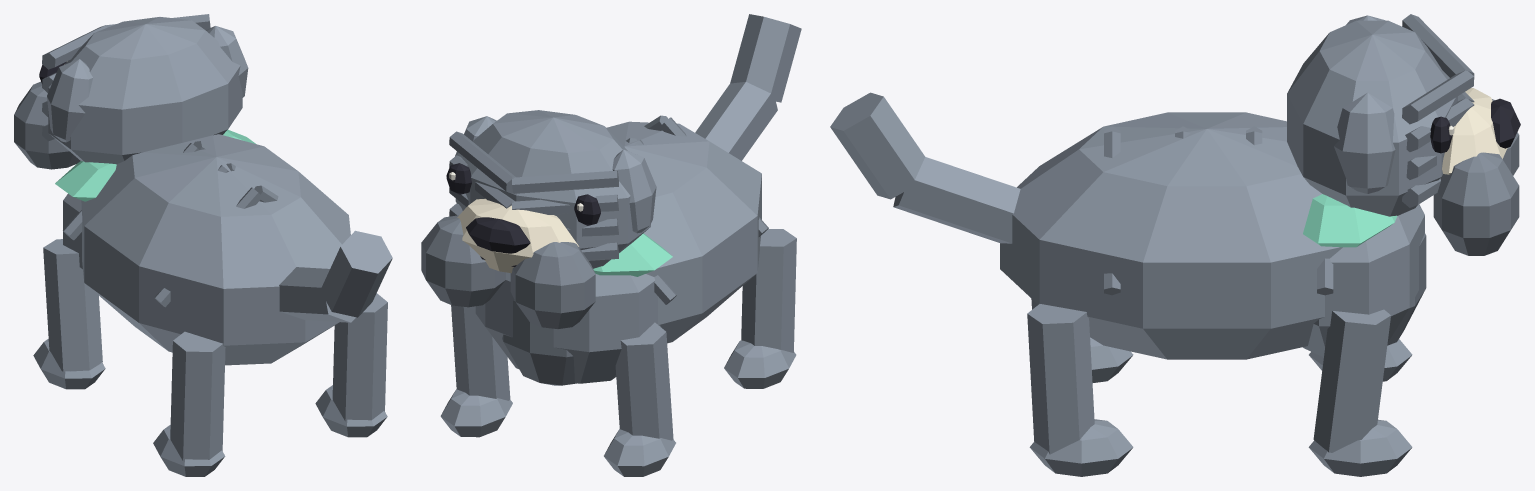
The model's file is neapolitan_mastiff.glb.
3 renders of one model, left to right at view 1: azimuth 30°, elevation 25°; view 2: azimuth 150°, elevation 25°; view 3: azimuth 270°, elevation 25°, orthographic. The views are drawn at different scales.
Visible parts, largest first — view 1: BodyMesh, HeadMesh; view 2: BodyMesh, HeadMesh; view 3: BodyMesh, HeadMesh.
Boxes of the visible parts, x1,y1,x2,y2 form: BodyMesh: [33, 129, 392, 476]; HeadMesh: [14, 14, 248, 169]; BodyMesh: [440, 14, 801, 476]; HeadMesh: [421, 110, 656, 328]; BodyMesh: [830, 92, 1426, 476]; HeadMesh: [1287, 14, 1520, 255].
Size of the model in its own units: 0.626 by 0.915 by 1.46.
